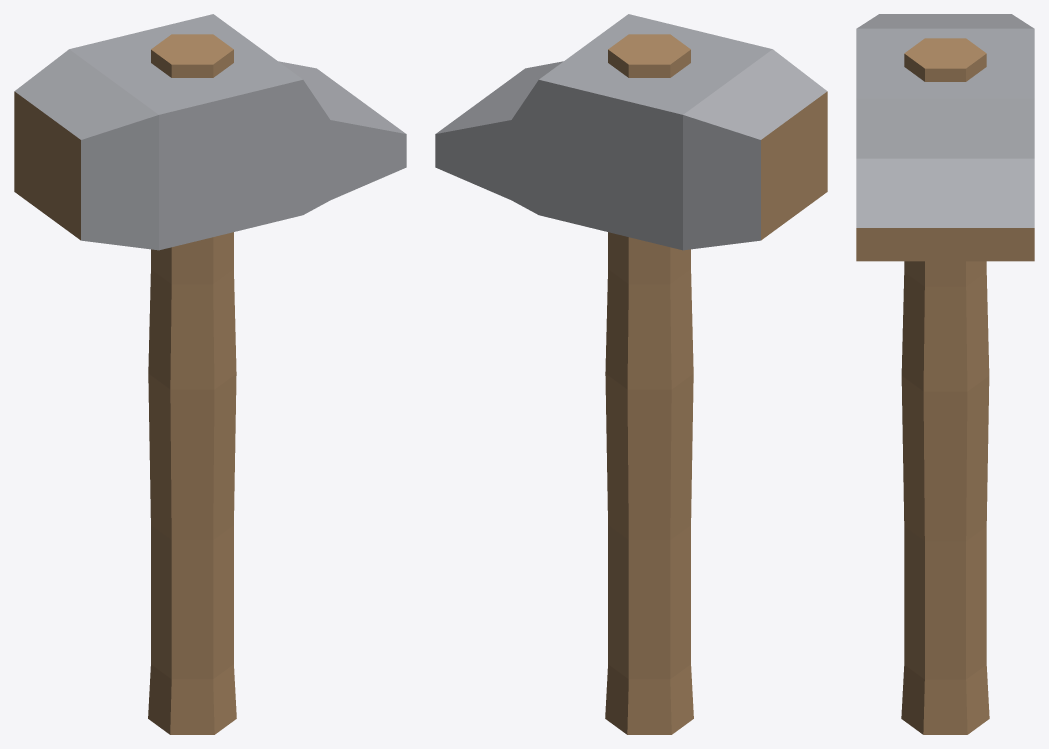
File: hammer_small.glb
3 renders of one model, left to right at view 1: azimuth 30°, elevation 25°; view 2: azimuth 150°, elevation 25°; view 3: azimuth 270°, elevation 25°, orthographic.
Visible parts, largest first — view 1: SmithsHammer4.001; view 2: SmithsHammer4.001; view 3: SmithsHammer4.001.
Part boxes in pixels (x1=…): SmithsHammer4.001: x1=14, y1=14, x2=406, y2=734; SmithsHammer4.001: x1=435, y1=14, x2=827, y2=734; SmithsHammer4.001: x1=856, y1=14, x2=1034, y2=734.
Size of the model in its own units: 0.1553 by 0.3163 by 0.0769.
